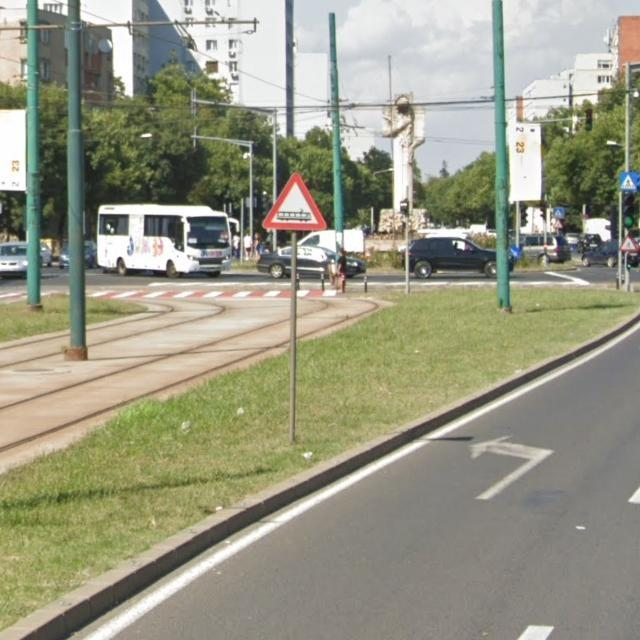warn_crosswalk: (619, 172, 640, 192)
